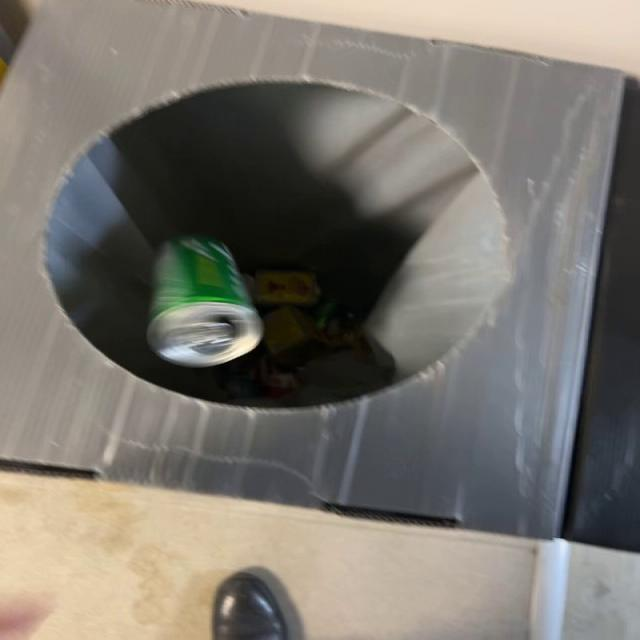bin: (1, 0, 627, 540)
metal: (147, 236, 263, 368)
